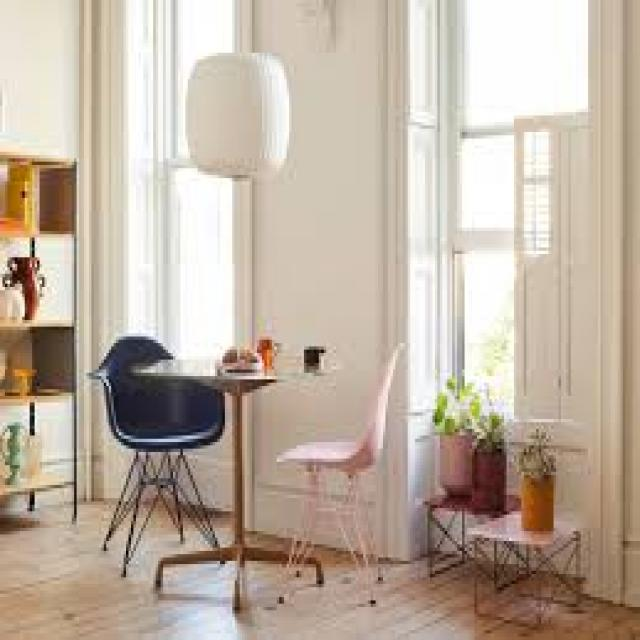chair: (80, 333, 232, 580), (275, 338, 407, 620)
